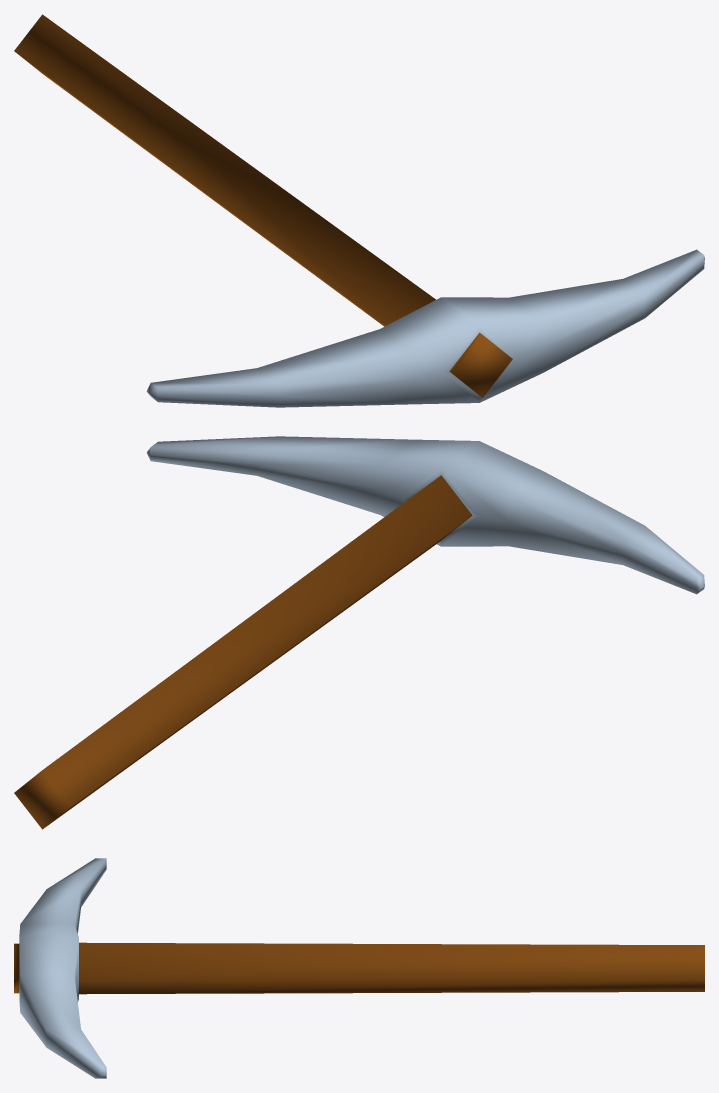
File: PickAxe.fbx
The picture shows the model from 3 angles, top to bottom: view 1: azimuth 30°, elevation 25°; view 2: azimuth 150°, elevation 25°; view 3: azimuth 270°, elevation 25°; orthographic projection. The views are drawn at different scales.
Visible parts, largest first — view 1: PickAxe; view 2: PickAxe; view 3: PickAxe.
Boxes of the visible parts, x1,y1,x2,y2 form: PickAxe: (14, 14, 704, 407); PickAxe: (14, 436, 704, 829); PickAxe: (14, 858, 704, 1078).
Bounding box in the file's own units: 0.477 × 0.0639 × 0.6552.
